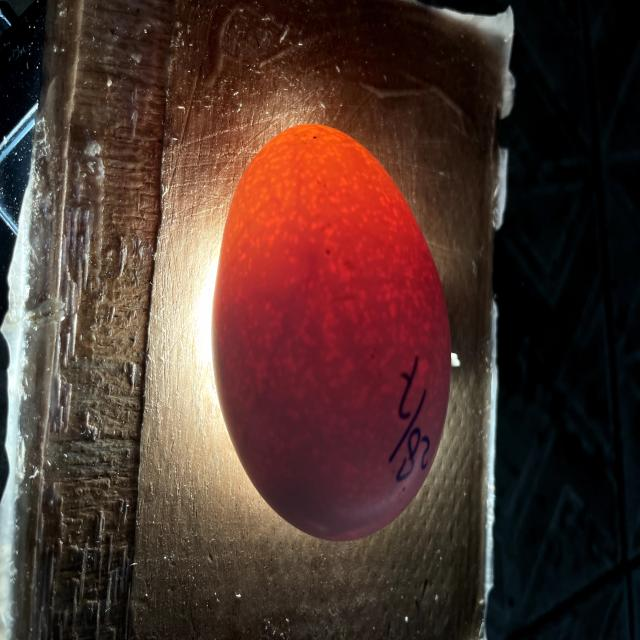fertile: (213, 125, 451, 542)
